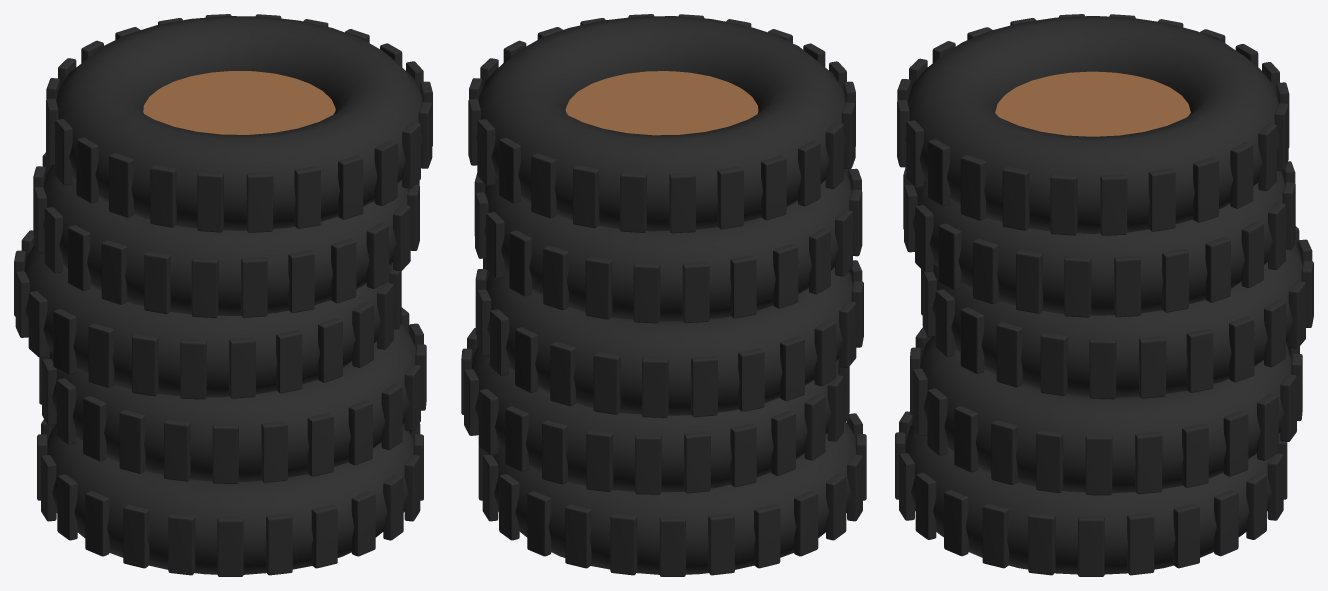
Rendered from tyre_stack.glb.
3 views of the same model, side by side, from view 1: azimuth 30°, elevation 25°; view 2: azimuth 150°, elevation 25°; view 3: azimuth 270°, elevation 25° (orthographic).
Parts seen in each view (by area): view 1: SM_tyre_stack; view 2: SM_tyre_stack; view 3: SM_tyre_stack.
Part boxes in pixels (x1,y1,x2,y2): SM_tyre_stack: (14, 14, 432, 576); SM_tyre_stack: (461, 14, 866, 576); SM_tyre_stack: (895, 14, 1313, 576).
Bounding box in the file's own units: 0.7844 × 0.904 × 0.7897.
